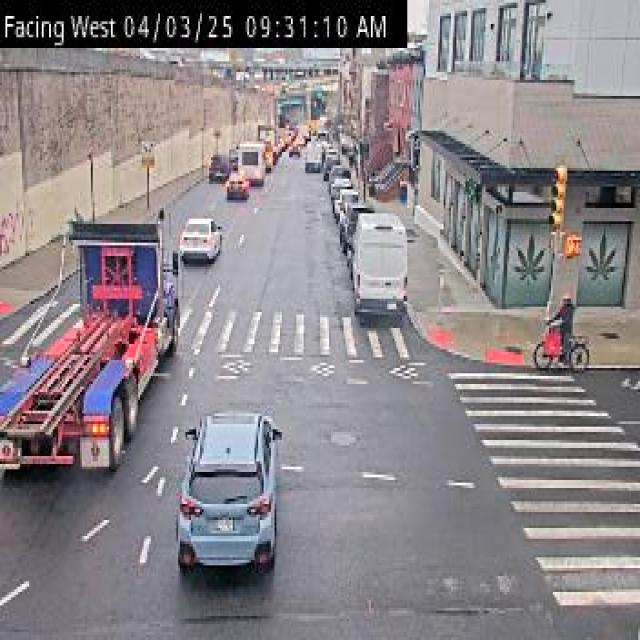open parking: (318, 158, 411, 325)
